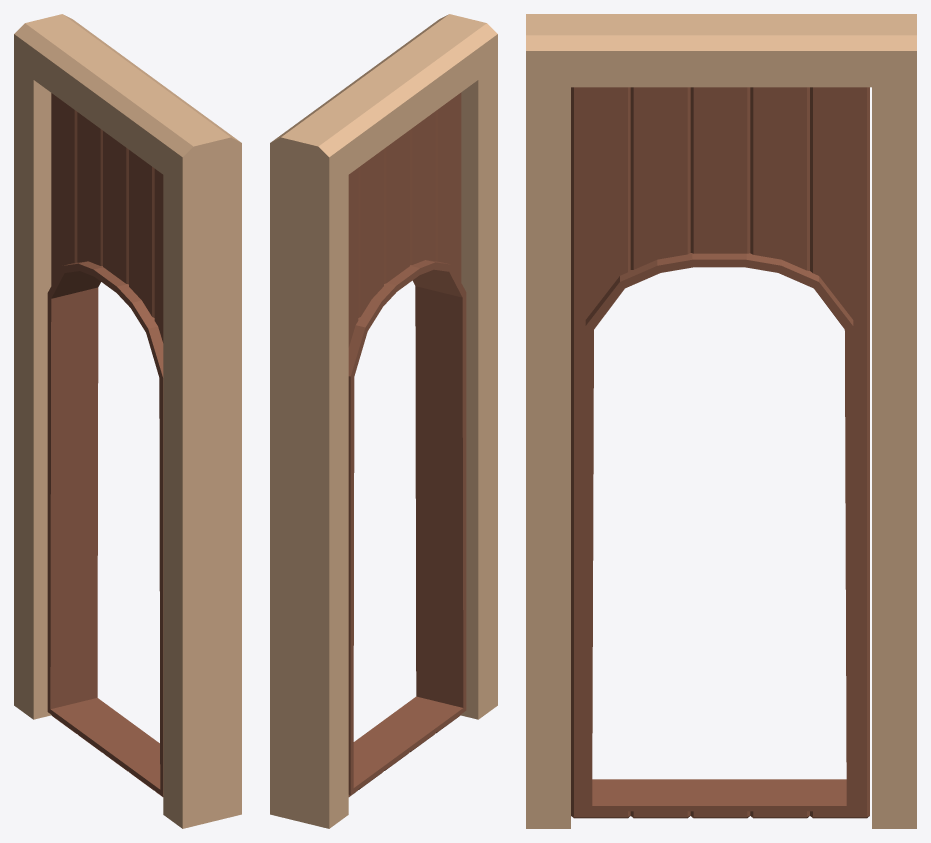
Rendered from Door Frame A.fbx.
3 renders of one model, left to right at view 1: azimuth 30°, elevation 25°; view 2: azimuth 150°, elevation 25°; view 3: azimuth 270°, elevation 25°, orthographic. The views are drawn at different scales.
Parts seen in each view (by area): view 1: Door Frame A; view 2: Door Frame A; view 3: Door Frame A.
Boxes of the visible parts, <box> form: Door Frame A: <box>14,14,241,828</box>; Door Frame A: <box>270,14,497,828</box>; Door Frame A: <box>526,14,916,828</box>.
Size of the model in its own units: 28.27 by 310 by 140.
